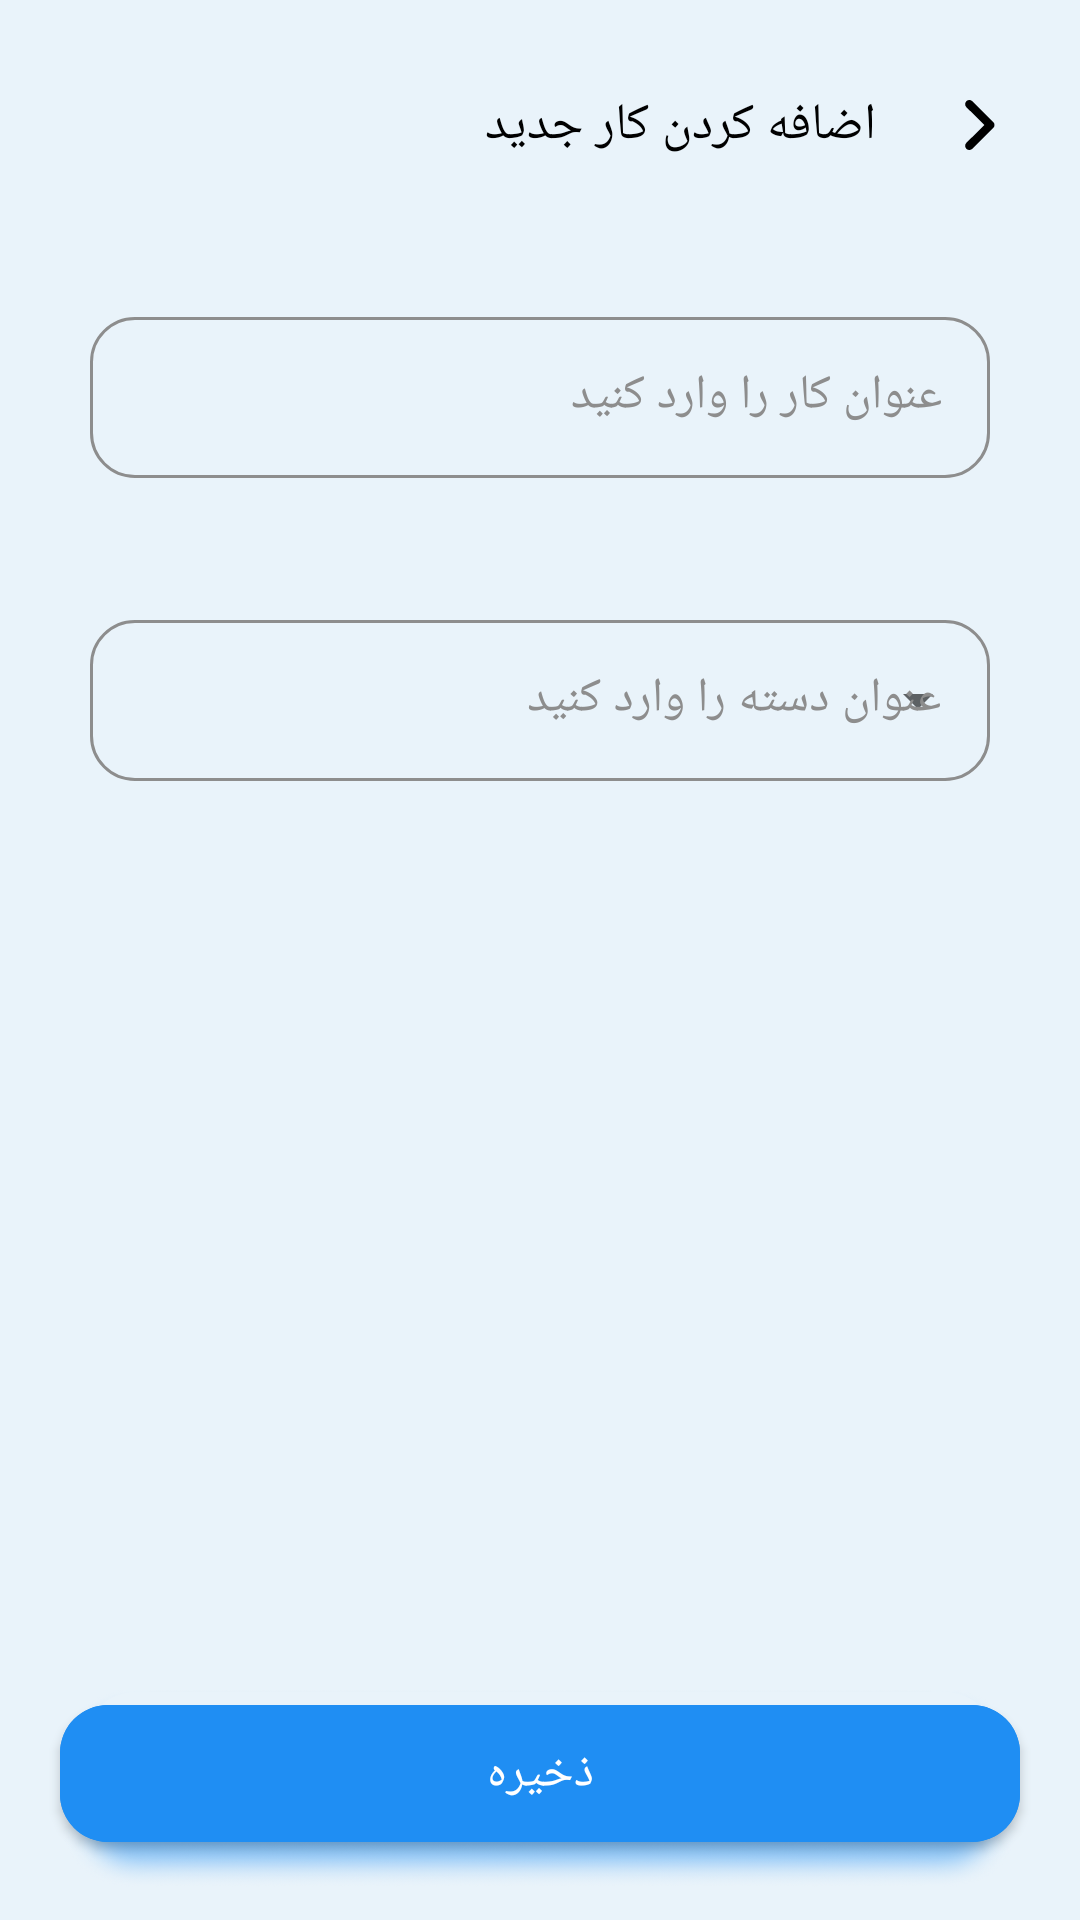

Locate icon controls on the screen. Image size 1080px×1920px, boxes as bbox(x1, y1, x2, y2).
بازگشت: bbox(965, 100, 995, 150)
